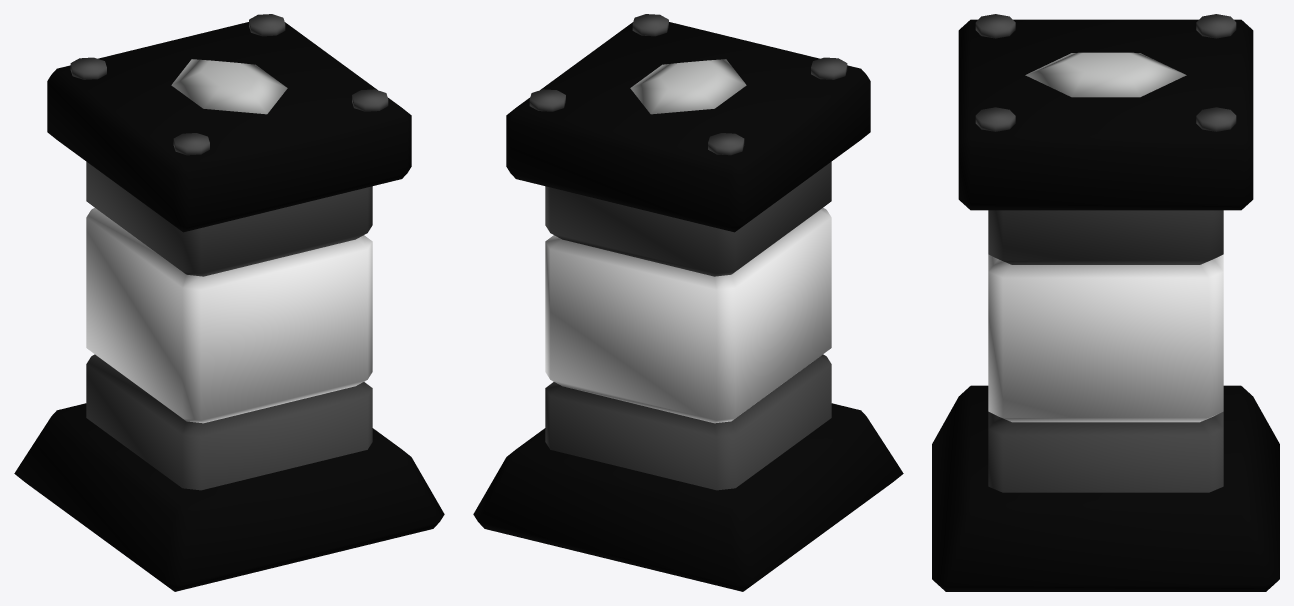
The model's file is Interactor_Itembox_Gold.fbx.
3 renders of one model, left to right at view 1: azimuth 30°, elevation 25°; view 2: azimuth 150°, elevation 25°; view 3: azimuth 270°, elevation 25°, orthographic. The views are drawn at different scales.
Parts seen in each view (by area): view 1: ItemBox; view 2: ItemBox; view 3: ItemBox.
Part boxes in pixels (box(x1,y1,x2,y2)): ItemBox: box(14, 14, 444, 591); ItemBox: box(473, 14, 903, 591); ItemBox: box(932, 14, 1279, 591).
Bounding box in the file's own units: 104 × 152 × 104.
